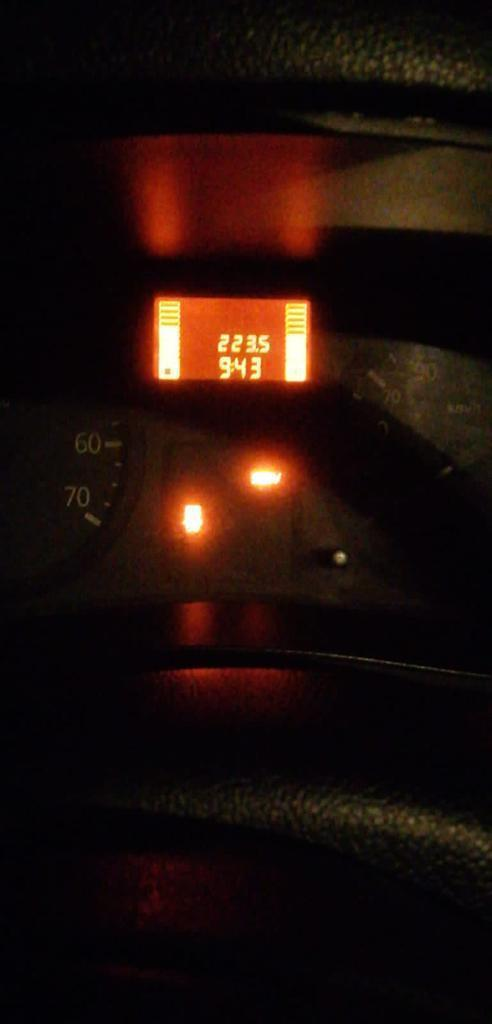,: (255, 347, 259, 353)
2: (230, 332, 243, 352), (217, 332, 229, 352)
3: (249, 356, 262, 380), (246, 333, 256, 352)
4: (235, 357, 247, 379)
5: (258, 334, 271, 353)
9: (218, 355, 230, 379)
X: (231, 360, 234, 372)
odometer: (145, 291, 315, 387)
